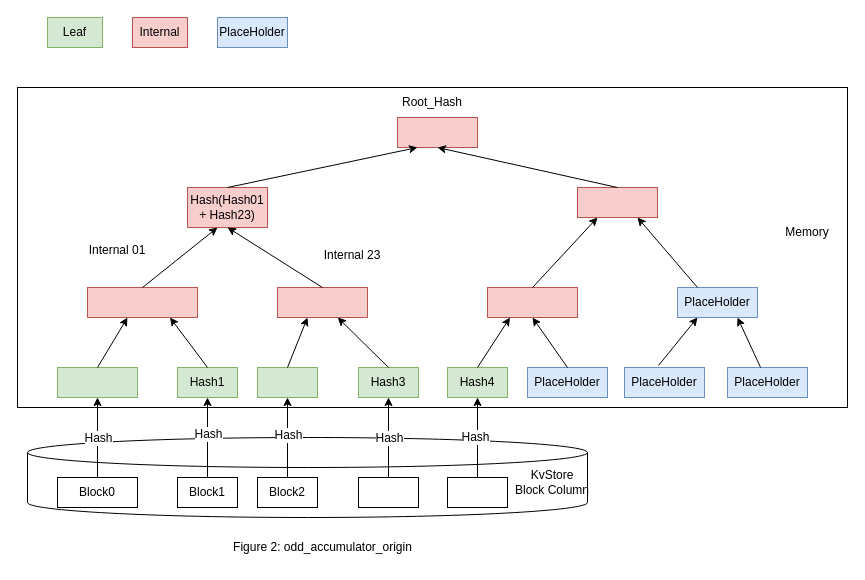
The diagram is 865 pixels wide and 580 high, and some of its shapes have lost their labels. The shapes that lost their labels are listed below. From the top down, each one's centre as x and y in pixels, then its label:
point (142, 302): Hash(Hash0 + Hash1)
point (322, 302): Hash(Hash2 + Hash3)
point (532, 302): Hash(Hash4 + PlaceHolder)
point (97, 382): Hash0
point (287, 382): Hash2
point (388, 492): Block3
point (477, 492): Block4
